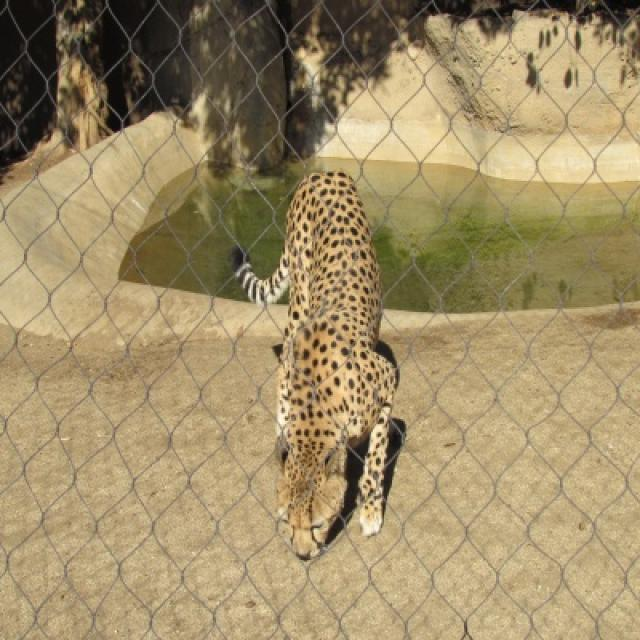Cheetah: (234, 170, 398, 557)
